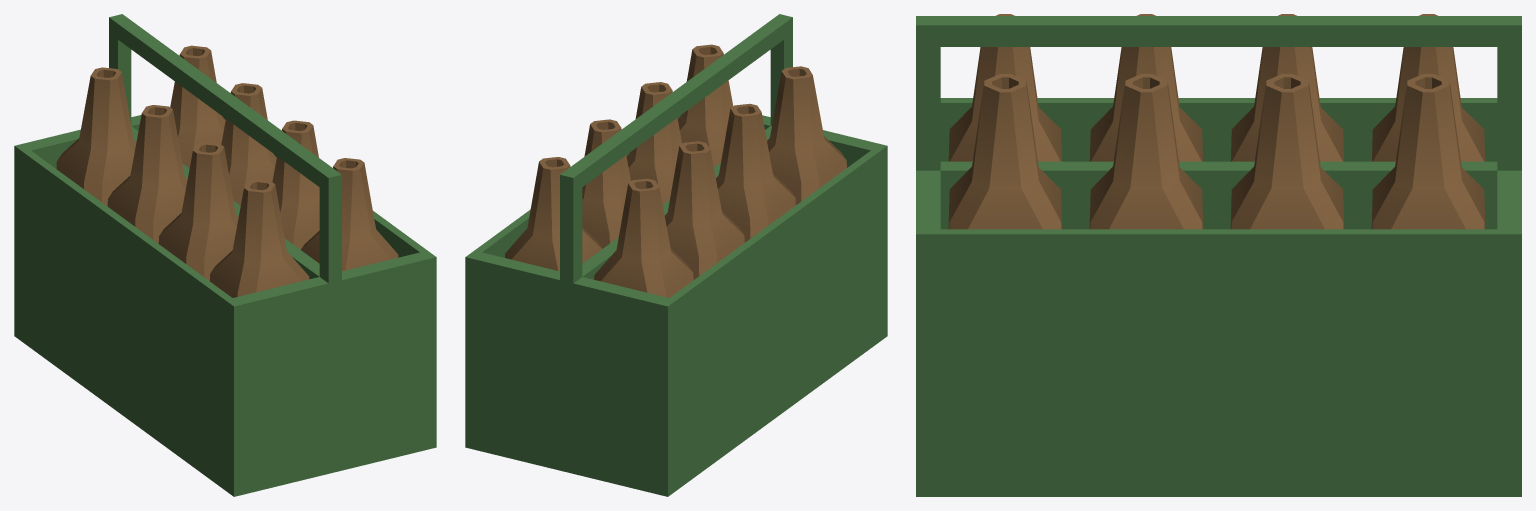
Rendered from Pack_De_Bière.fbx.
The picture shows the model from 3 angles, left to right: view 1: azimuth 30°, elevation 25°; view 2: azimuth 150°, elevation 25°; view 3: azimuth 270°, elevation 25°; orthographic projection. The views are drawn at different scales.
Parts seen in each view (by area): view 1: Pack_De_Bières; view 2: Pack_De_Bières; view 3: Pack_De_Bières.
Boxes of the visible parts, bbox=[...] form: Pack_De_Bières: bbox=[14, 14, 436, 496]; Pack_De_Bières: bbox=[465, 14, 887, 496]; Pack_De_Bières: bbox=[916, 14, 1521, 496].
Bounding box in the file's own units: 37.23 × 51.98 × 69.93.
Materials: 2 (2 with a texture image).
